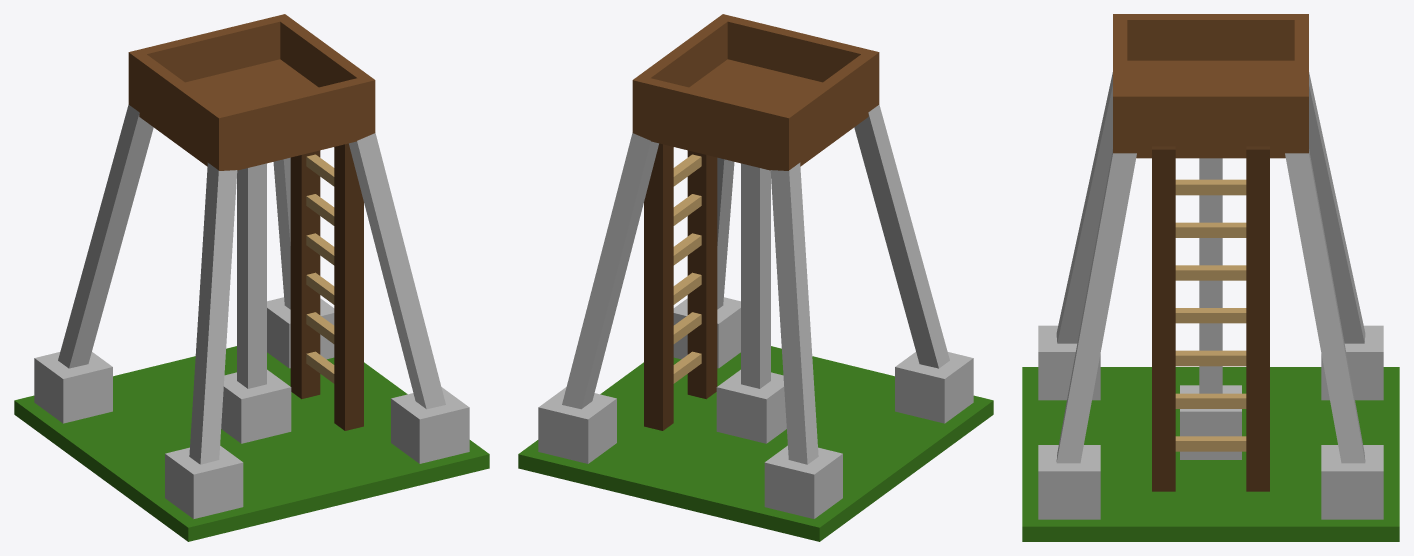
The model's file is lvl11.glb.
The picture shows the model from 3 angles, left to right: view 1: azimuth 30°, elevation 25°; view 2: azimuth 150°, elevation 25°; view 3: azimuth 270°, elevation 25°; orthographic projection. The views are drawn at different scales.
Parts seen in each view (by area): view 1: Plane.010; view 2: Plane.010; view 3: Plane.010.
Part boxes in pixels (x1,y1,x2,y2): Plane.010: (14,14,489,541); Plane.010: (518,14,993,541); Plane.010: (1022,14,1399,541).
Size of the model in its own units: 4 by 4.76 by 4.
